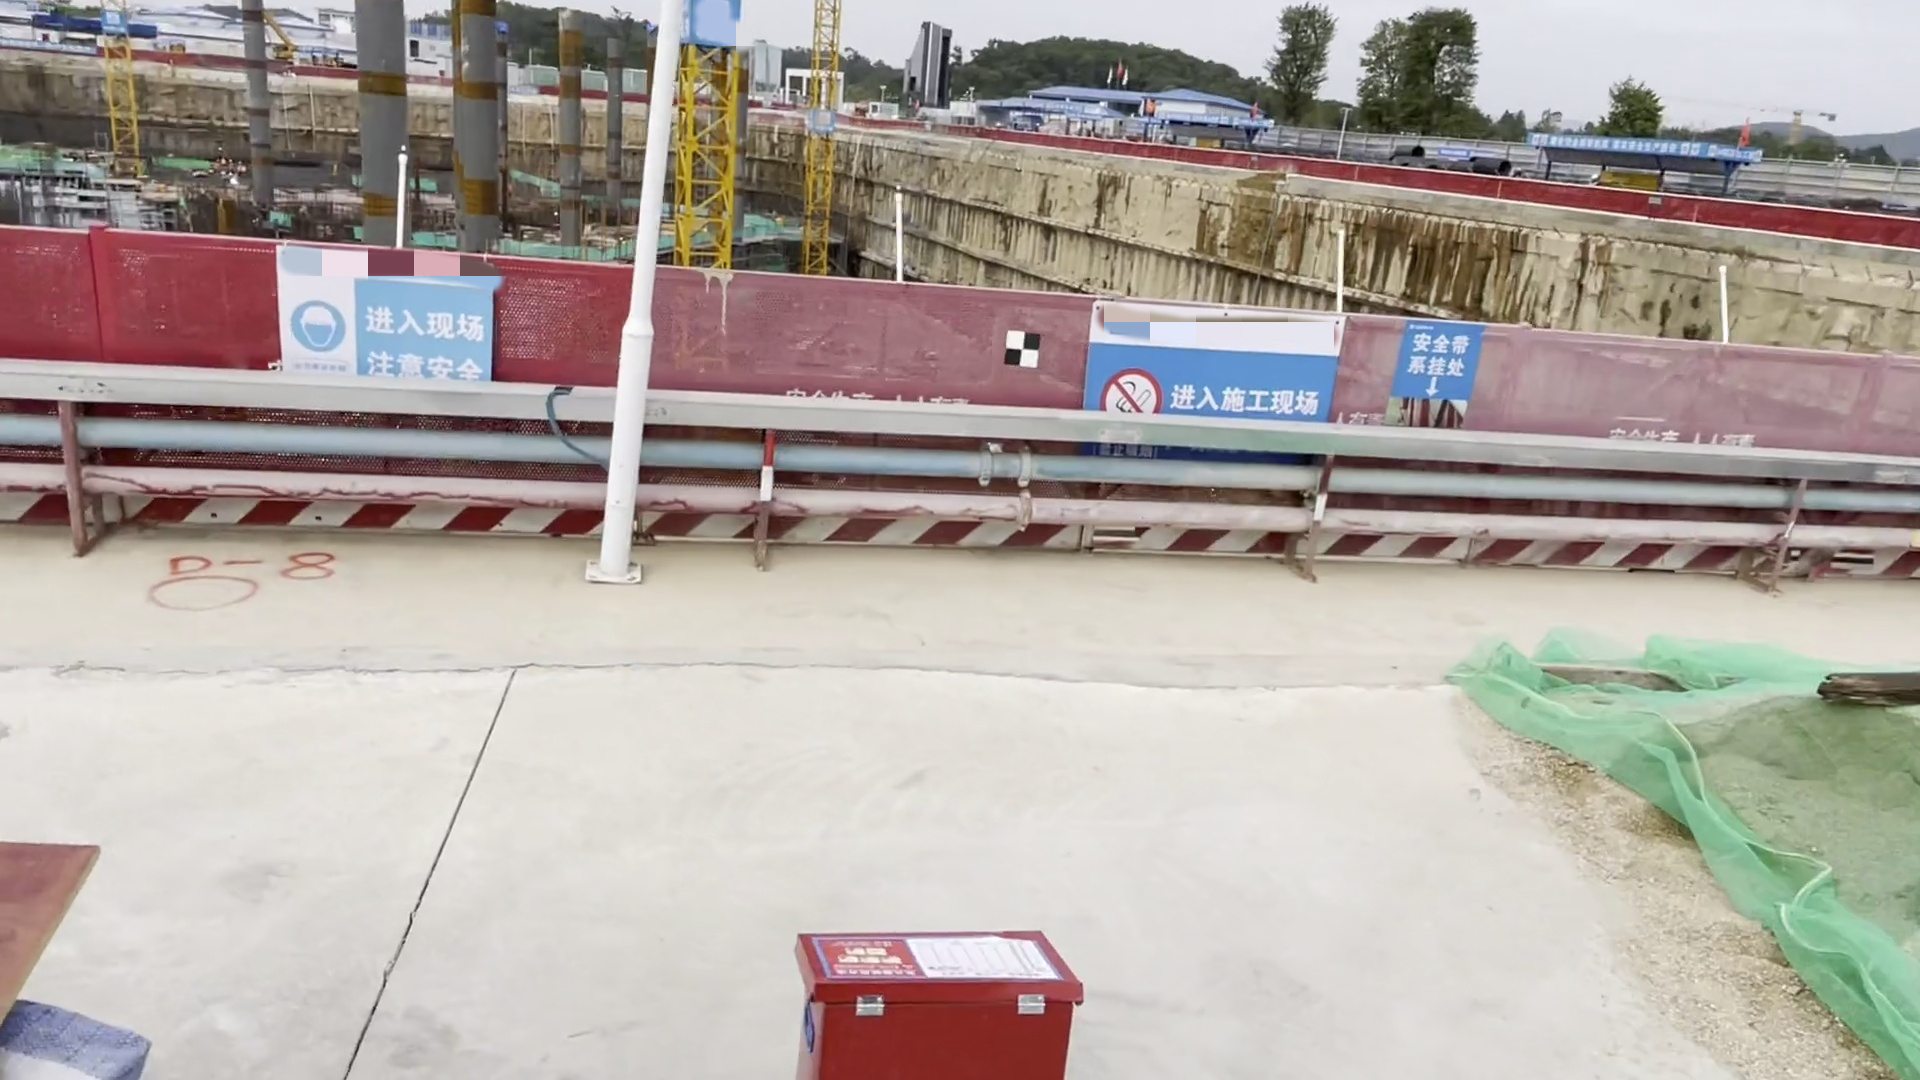fence: (1, 225, 1920, 585)
slogan: (1077, 290, 1345, 422), (269, 233, 498, 376), (1383, 318, 1489, 423)
